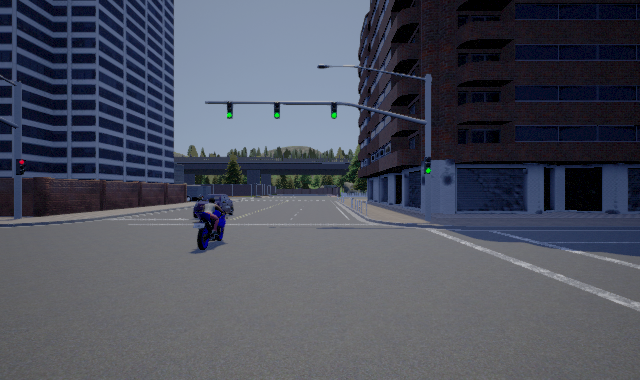motobike: (193, 197, 228, 250)
traffic_light: (16, 159, 26, 175), (424, 157, 431, 174), (227, 101, 233, 119), (331, 102, 337, 119), (274, 102, 280, 119)
vehicle: (192, 193, 234, 216)
